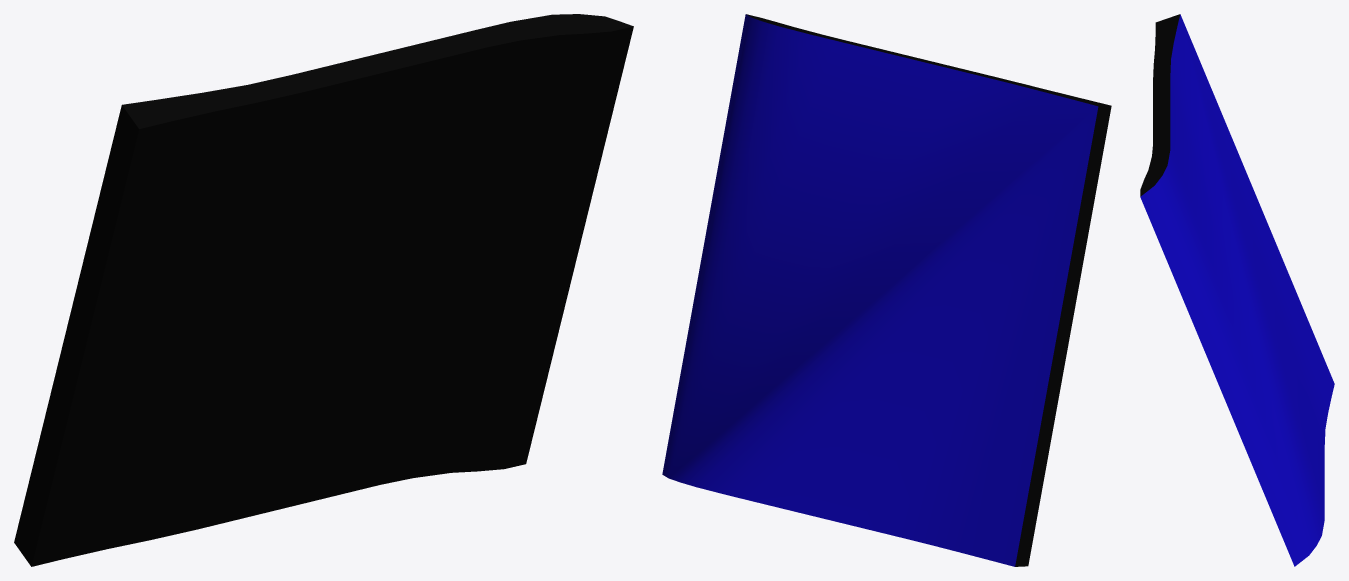
Rendered from NOT SUYRE IF WORK.fbx.
The picture shows the model from 3 angles, left to right: view 1: azimuth 30°, elevation 25°; view 2: azimuth 150°, elevation 25°; view 3: azimuth 270°, elevation 25°; orthographic projection. The views are drawn at different scales.
Parts seen in each view (by area): view 1: book_left1; view 2: book_left1 (×2); view 3: book_left1 (×2).
Boxes of the visible parts, x1,y1,x2,y2 form: book_left1: (14, 14, 633, 566); book_left1 (×2): (662, 14, 1111, 566); book_left1 (×2): (1140, 14, 1334, 566).
Bounding box in the file's own units: 876 × 927 × 426.
